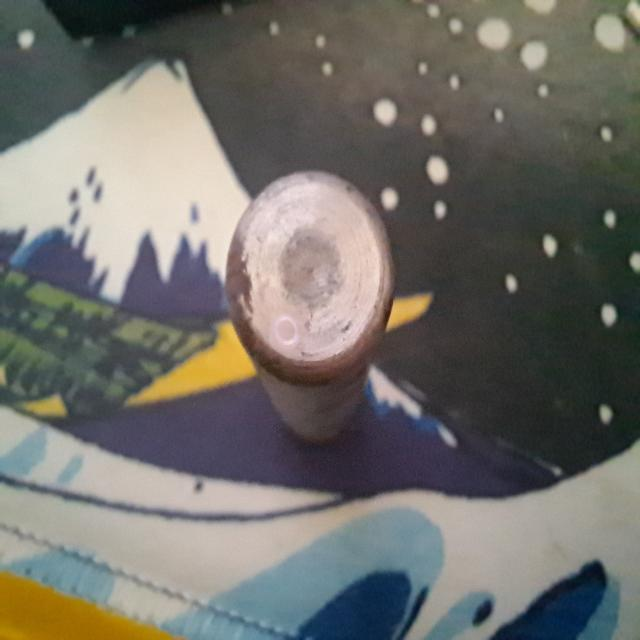defect: (272, 314, 300, 350)
planson: (224, 172, 398, 448)
